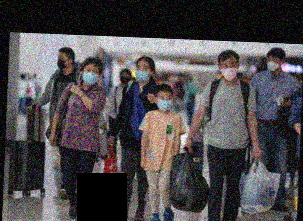with_mask: (220, 59, 238, 81), (82, 65, 100, 86), (156, 93, 173, 112), (135, 62, 151, 82), (266, 55, 280, 72), (57, 52, 69, 70), (119, 73, 131, 85)
